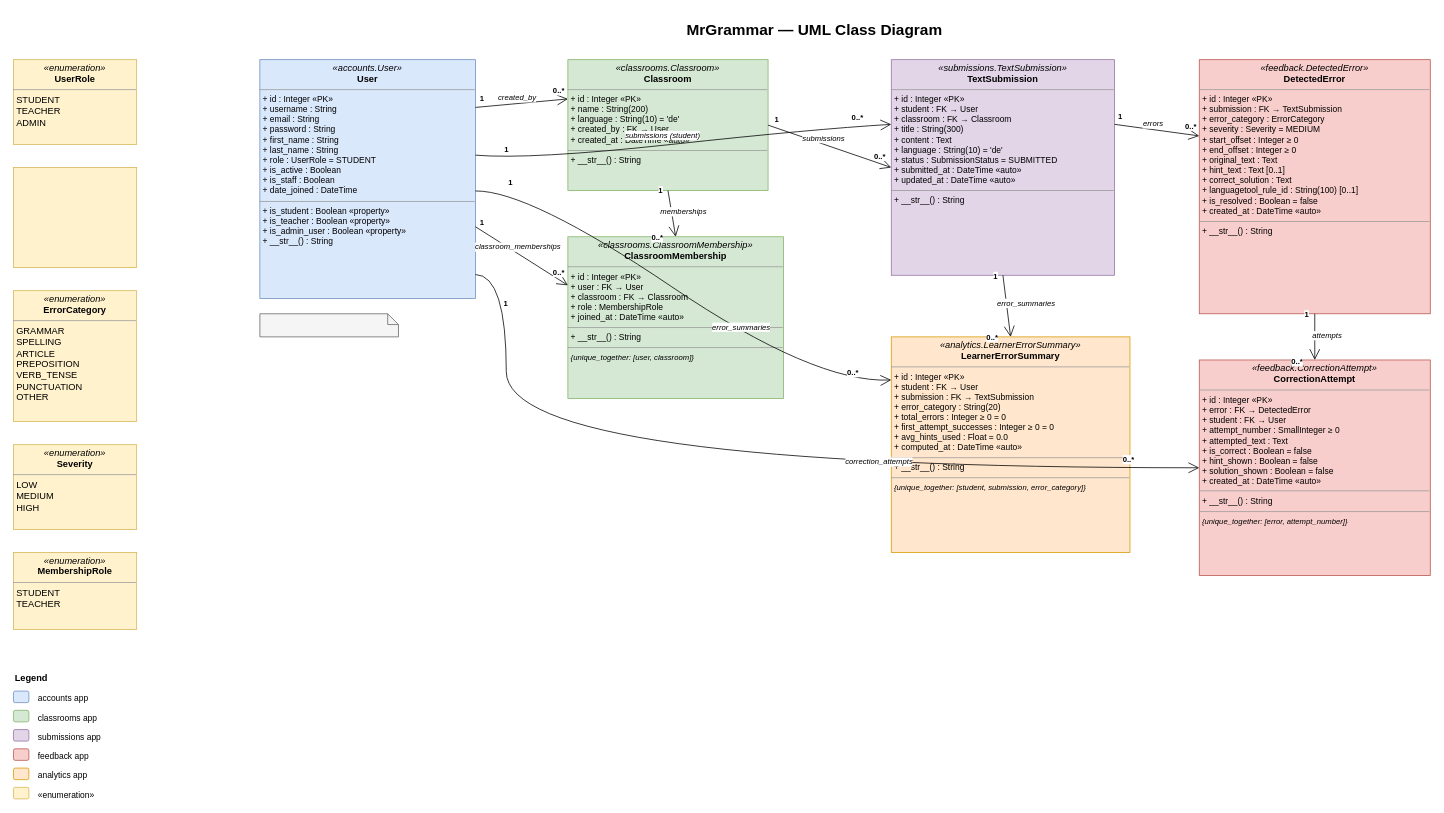
Image size: 1444x813. Some labels were removed from this diagram. The centre of each missing label's shape, as x and y in pixels:
extends Django AbstractUser: (328,325)
«enumeration» SubmissionStatus SUBMITTED ANALYZING IN_REVIEW COMPLETED: (75,217)
